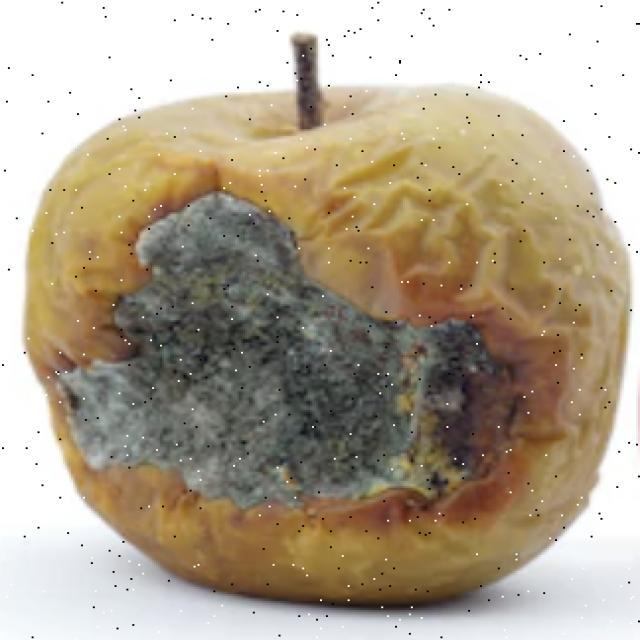Rotten: (58, 71, 625, 596)
